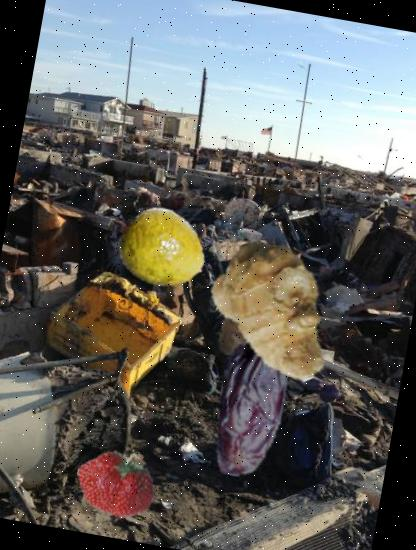Dates: (171, 331, 329, 490)
Ginger: (186, 226, 361, 400)
Guava: (112, 199, 214, 301)
Potato: (196, 265, 304, 372)
Strawberry: (69, 436, 163, 530)
